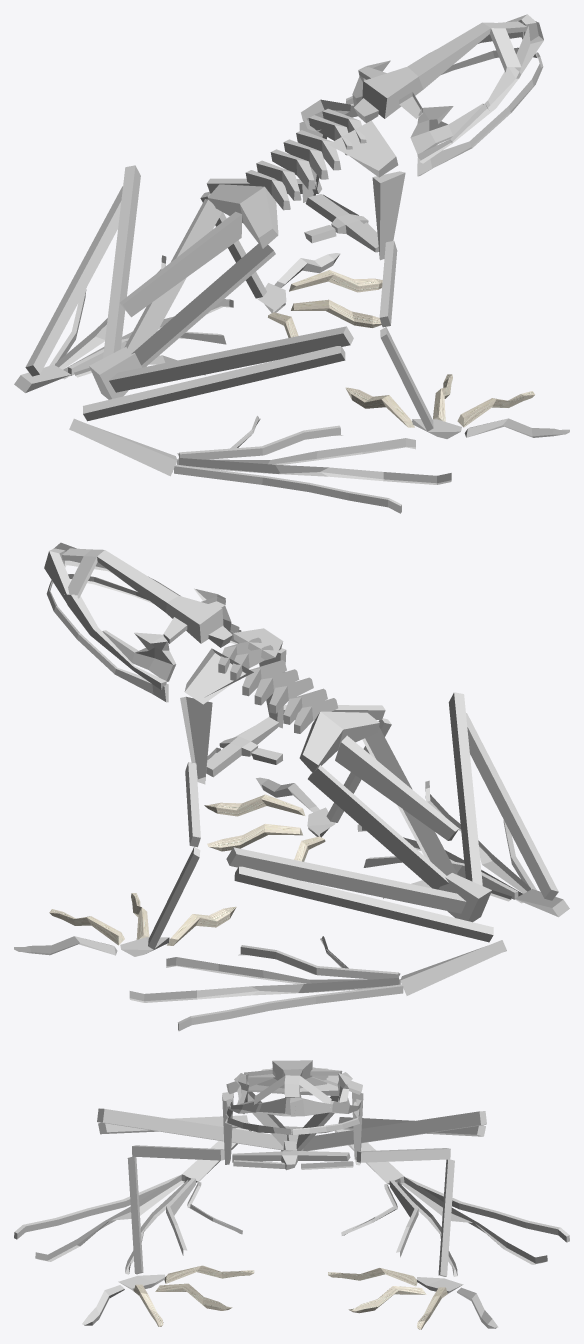
File: FrogFinal.glb
The picture shows the model from 3 angles, top to bottom: view 1: azimuth 30°, elevation 25°; view 2: azimuth 150°, elevation 25°; view 3: azimuth 270°, elevation 25°; orthographic projection. The views are drawn at different scales.
Visible parts, largest first — view 1: Cube.027, Cube.040, Cube.011, Cube.050, Cube.008, Cube.009, Cube.020, Cube.019, Cube.022, Cube.047, Cube.010, Cube.003 (+15 smaller); view 2: Cube.027, Cube.040, Cube.022, Cube.050, Cube.019, Cube.020, Cube.008, Cube.009, Cube.011, Cube.047, Cube.021, Cube.013 (+15 smaller); view 3: Cube.040, Cube.011, Cube.022, Cube.050, Cube.008, Cube.019, Cube.027, Cube.018, Cube.007, Cube.003, Cube.013, Cube.047 (+14 smaller).
Part boxes in pixels (<box>): Cube.027: <box>89,184,278,399</box>; Cube.040: <box>346,14,543,163</box>; Cube.011: <box>174,416,451,513</box>; Cube.050: <box>299,99,405,260</box>; Cube.008: <box>109,326,353,392</box>; Cube.009: <box>83,346,345,421</box>; Cube.020: <box>25,186,122,376</box>; Cube.019: <box>103,165,140,358</box>; Cube.022: <box>49,255,233,379</box>; Cube.047: <box>345,47,543,176</box>; Cube.010: <box>69,418,177,476</box>; Cube.003: <box>380,327,433,431</box>; Cube.027: <box>299,711,491,922</box>; Cube.040: <box>44,542,239,689</box>; Cube.022: <box>129,936,403,1031</box>; Cube.050: <box>180,628,286,784</box>; Cube.019: <box>226,847,466,913</box>; Cube.020: <box>234,866,493,942</box>; Cube.008: <box>448,692,482,885</box>; Cube.009: <box>466,713,558,900</box>; Cube.011: <box>357,780,536,903</box>; Cube.047: <box>46,574,241,702</box>; Cube.021: <box>400,940,506,995</box>; Cube.013: <box>148,846,200,949</box>; Cube.040: <box>226,1060,361,1116</box>; Cube.011: <box>14,1174,242,1274</box>; Cube.022: <box>341,1176,569,1276</box>; Cube.050: <box>222,1067,363,1170</box>; Cube.008: <box>97,1108,283,1150</box>; Cube.019: <box>303,1111,486,1151</box>; Cube.027: <box>247,1083,339,1151</box>; Cube.018: <box>356,1148,450,1162</box>; Cube.007: <box>132,1145,224,1160</box>; Cube.003: <box>127,1156,143,1274</box>; Cube.013: <box>438,1159,454,1276</box>; Cube.047: <box>225,1101,359,1135</box>.
Size of the model in its own units: 0.0197 by 0.0119 by 0.022.
Materials: 3 (3 with a texture image).
